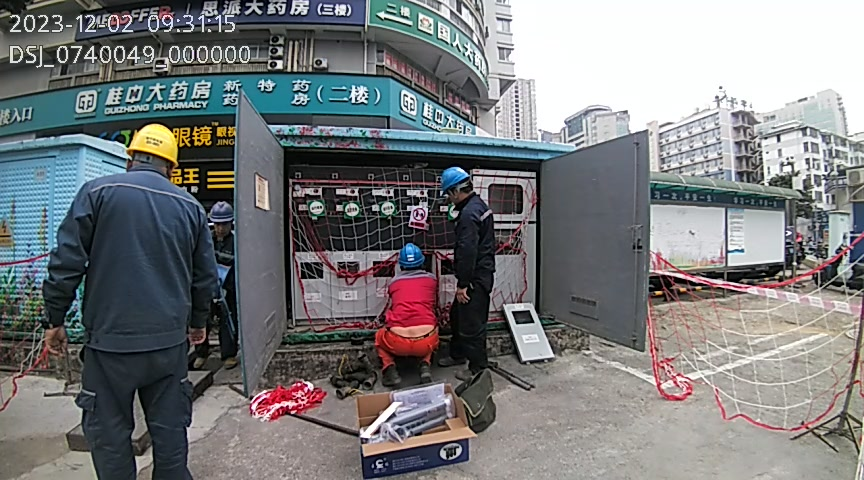downsuit: (77, 356, 196, 480), (448, 272, 496, 367)
halt: (126, 122, 180, 173), (441, 168, 474, 204), (209, 200, 235, 245), (398, 243, 425, 268)
hand: (44, 326, 70, 360), (453, 283, 474, 304), (186, 325, 207, 345)
intosign: (306, 193, 329, 222), (341, 194, 362, 223), (377, 193, 398, 220)
person: (41, 122, 219, 480), (437, 167, 504, 379), (371, 243, 446, 388), (191, 198, 243, 372)
upcloth: (379, 276, 441, 329)
upsuit: (43, 165, 215, 352), (446, 194, 496, 273)
ydownsuit: (373, 328, 440, 371)
